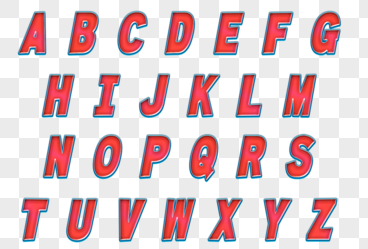A: (17, 8, 54, 61)
B: (64, 10, 101, 58)
C: (114, 8, 150, 58)
D: (161, 9, 198, 56)
E: (213, 11, 244, 58)
F: (260, 9, 295, 57)
G: (308, 9, 344, 57)
H: (42, 72, 75, 118)
I: (90, 72, 124, 120)
J: (137, 72, 171, 118)
K: (186, 72, 221, 121)
L: (234, 73, 265, 118)
M: (282, 72, 318, 121)
N: (41, 133, 78, 180)
O: (92, 133, 124, 181)
P: (137, 133, 172, 180)
Q: (188, 134, 220, 182)
R: (234, 134, 268, 180)
S: (284, 134, 318, 180)
T: (17, 197, 52, 243)
U: (65, 196, 97, 243)
V: (114, 196, 148, 242)
W: (162, 197, 196, 242)
X: (208, 196, 244, 243)
Y: (260, 197, 294, 243)
Z: (304, 196, 341, 244)
